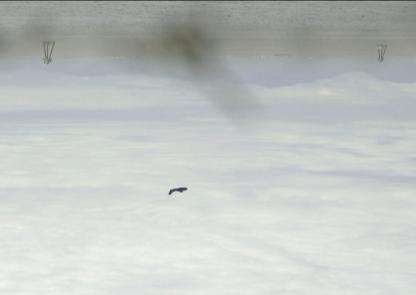Tu95: (168, 188, 188, 194)
